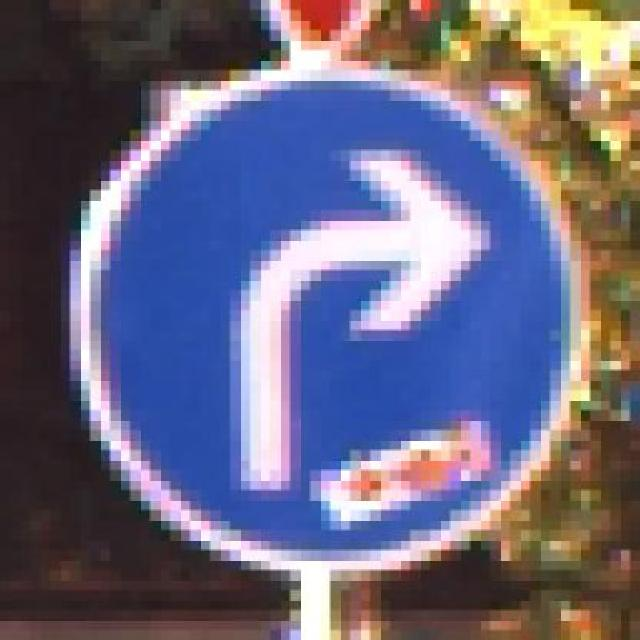Turn right ahead: (49, 60, 600, 580)
